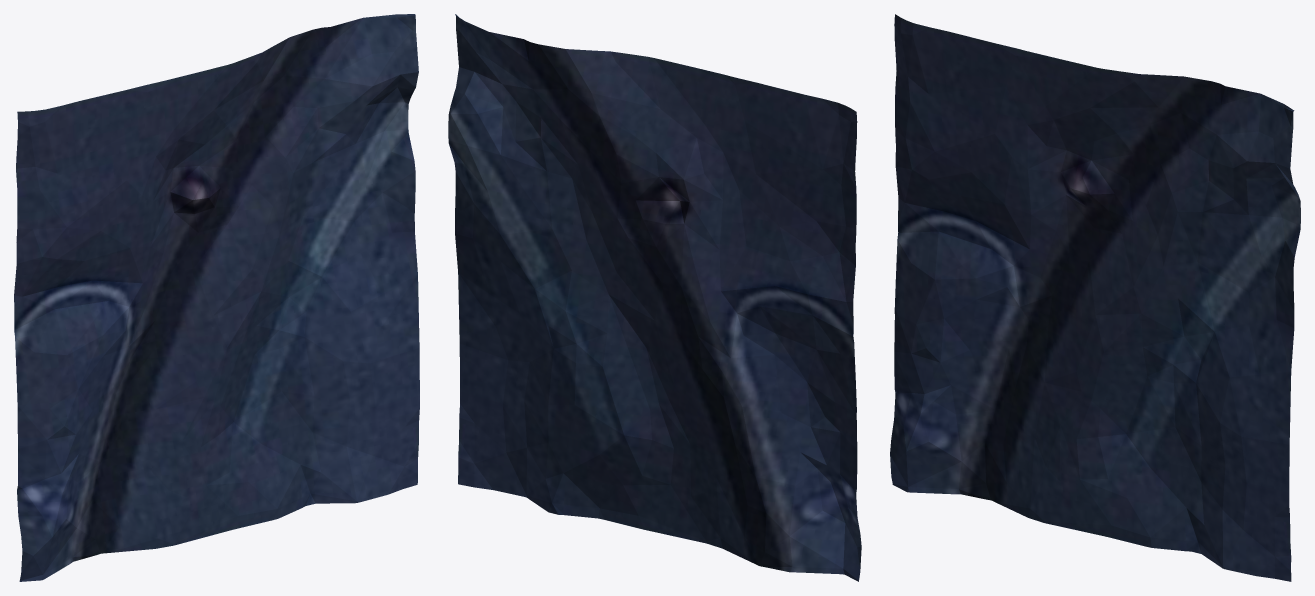
Rendered from tile_5_23_23_tex.obj.
3 renders of one model, left to right at view 1: azimuth 30°, elevation 25°; view 2: azimuth 150°, elevation 25°; view 3: azimuth 330°, elevation 25°, orthographic.
Visible parts, largest first — view 1: obj_0; view 2: obj_0; view 3: obj_0.
Boxes of the visible parts, x1=… form: obj_0: x1=14, y1=14, x2=419, y2=581; obj_0: x1=448, y1=14, x2=861, y2=581; obj_0: x1=890, y1=14, x2=1300, y2=581.
Bounding box in the file's own units: 5.01 × 5.64 × 0.4809.
1 material, 1 textured.
